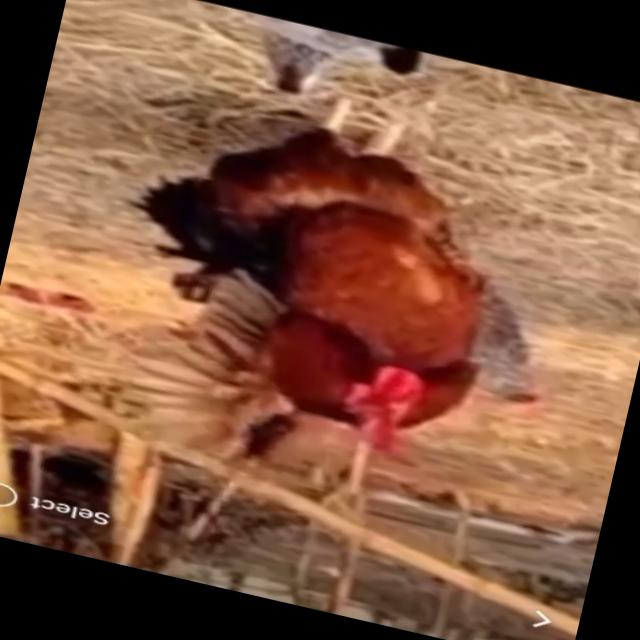wing flap: (0, 29, 618, 549)
